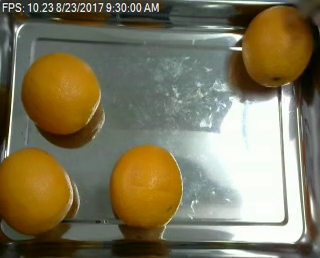Orange: (21, 52, 101, 132), (111, 143, 183, 227), (0, 149, 71, 233), (242, 6, 313, 88)
